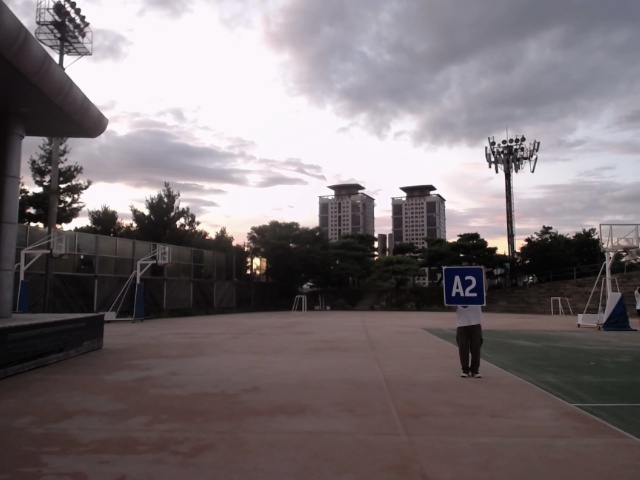delivery_a2: (443, 266, 485, 306)
